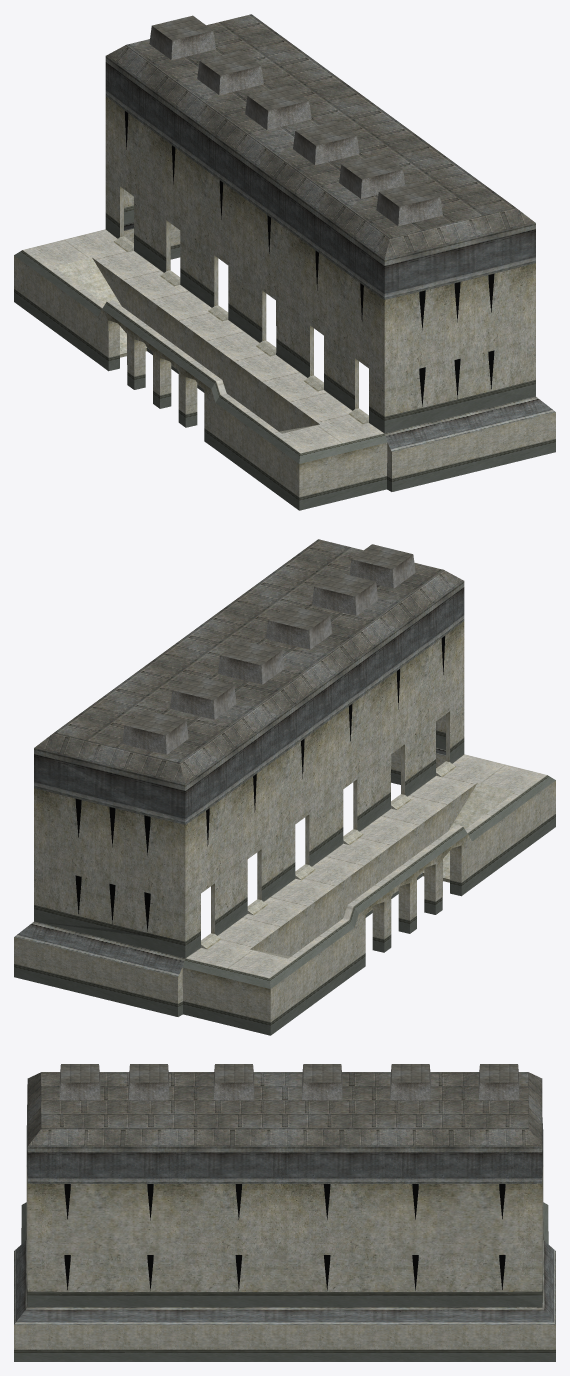
File: thm_corl_imprv_slum_16x32_s02_r0_mesh_l2.fbx
3 views of the same model, one above another, from view 1: azimuth 30°, elevation 25°; view 2: azimuth 150°, elevation 25°; view 3: azimuth 270°, elevation 25° (orthographic). The views are drawn at different scales.
Parts seen in each view (by area): view 1: mesh_node; view 2: mesh_node; view 3: mesh_node.
Boxes of the visible parts, box(x1,y1,x2,y2) form: mesh_node: box(14, 14, 555, 510); mesh_node: box(14, 539, 555, 1035); mesh_node: box(14, 1064, 555, 1361).
Bounding box in the file's own units: 15.86 × 15.51 × 31.9.
